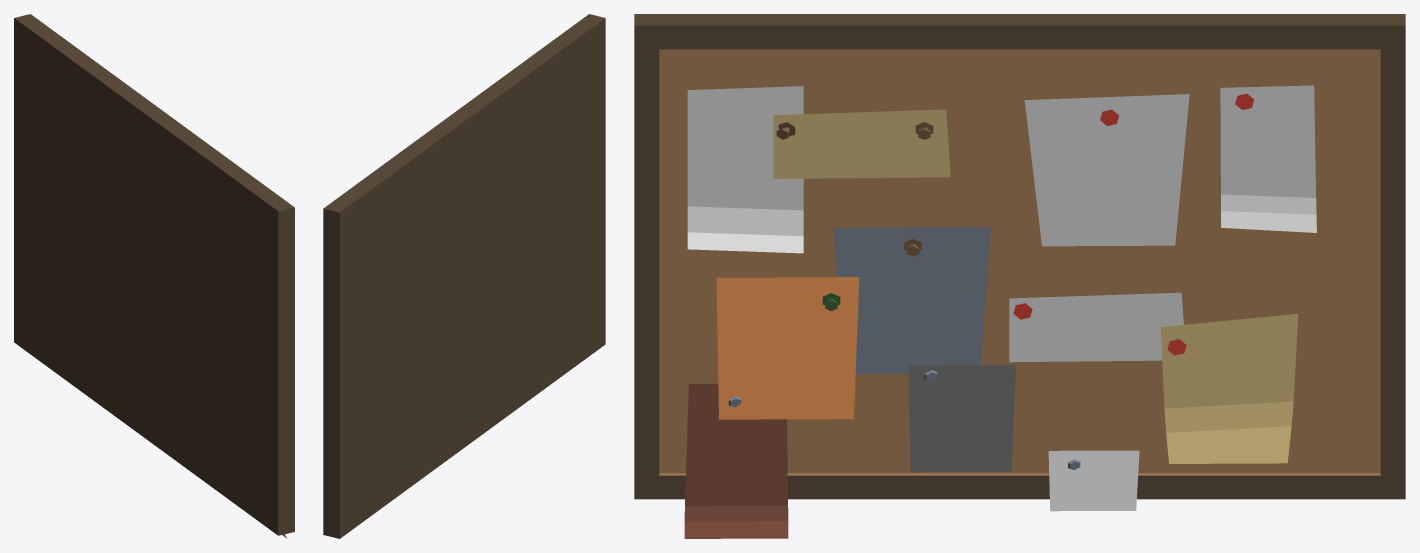
The model's file is SM_PinBoard_01.glb.
3 views of the same model, side by side, from view 1: azimuth 30°, elevation 25°; view 2: azimuth 150°, elevation 25°; view 3: azimuth 270°, elevation 25° (orthographic). The views are drawn at different scales.
Visible parts, largest first — view 1: SM_PinBoard_01; view 2: SM_PinBoard_01; view 3: SM_PinBoard_01.
Part boxes in pixels (box(x1,y1,x2,y2)): SM_PinBoard_01: box(14, 14, 294, 538); SM_PinBoard_01: box(323, 14, 605, 538); SM_PinBoard_01: box(634, 14, 1405, 538).
Bounding box in the file's own units: 0.1008 × 0.942 × 1.3.
Materials: 1 (1 with a texture image).
